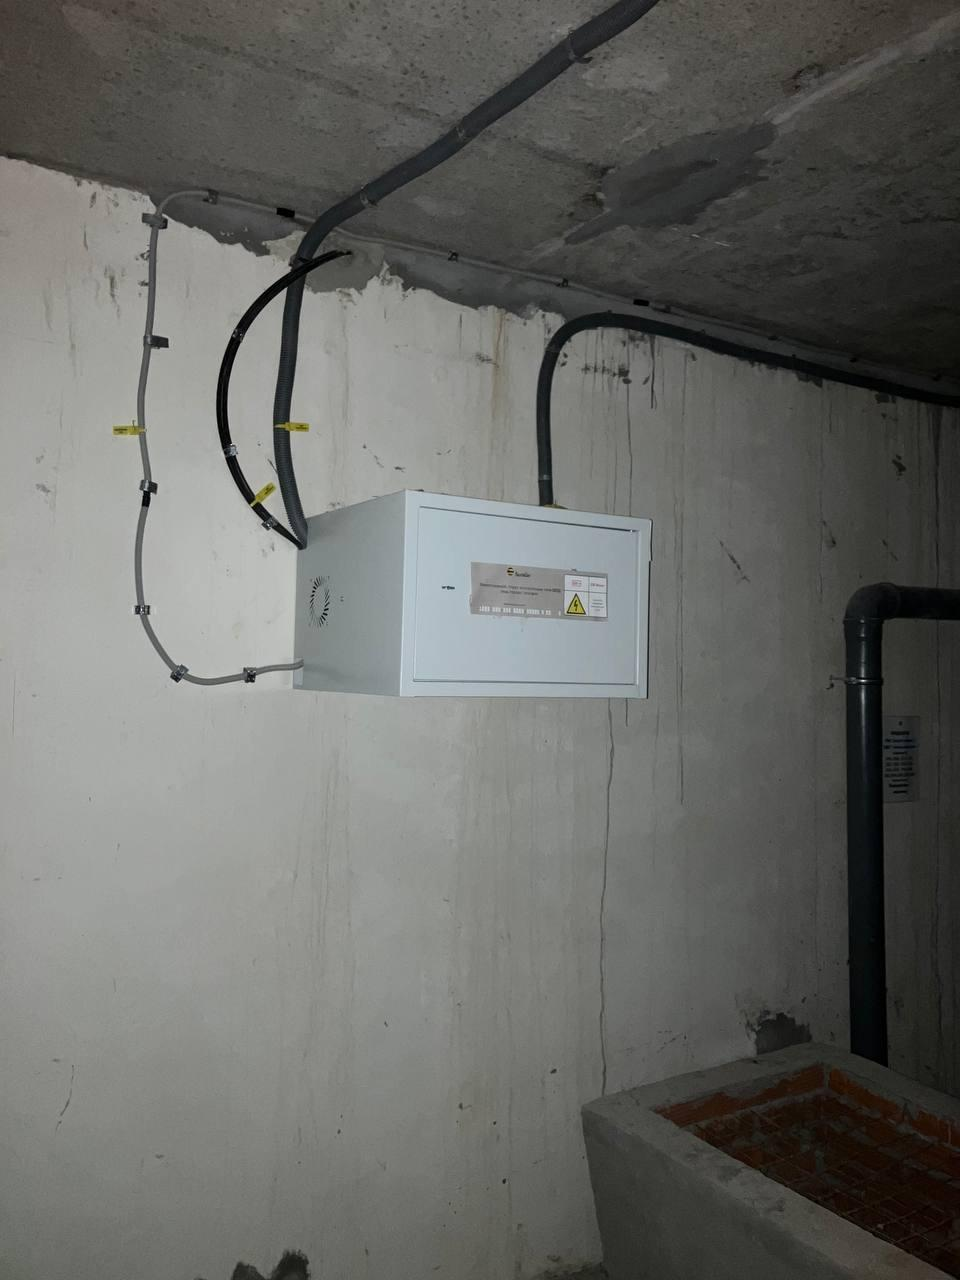shta-7m: (282, 479, 659, 705)
